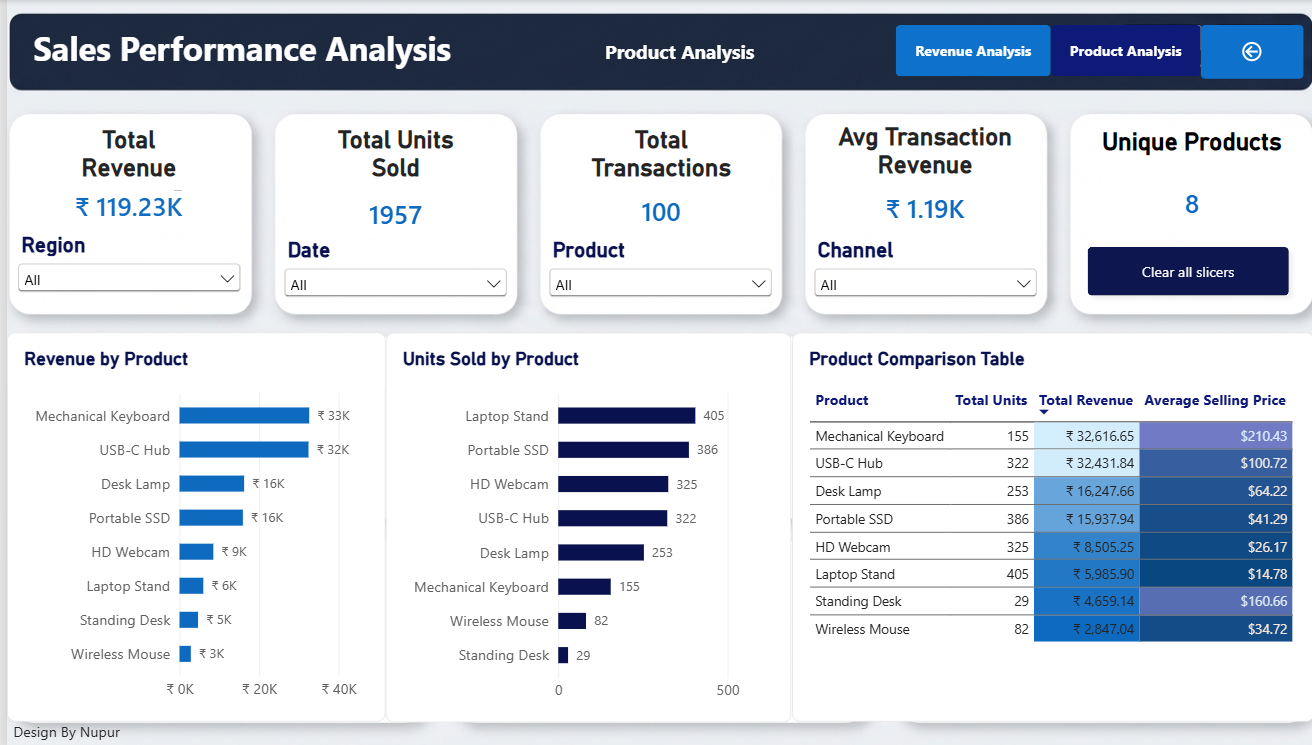

The page's visual inventory and layout, read from the dashboard file:
{"tool":"powerbi","page":{"name":"Sales_performance_dashboard","canvas":[1280,730],"ordinal":1},"visuals":[{"type":"cardVisual","title":"Total Revenue","fields":{"Data":["Sum(sales-transactions.revenue)"]},"box":[44,122.3,150.5,94.2],"z":0},{"type":"cardVisual","title":"Total Units Sold","fields":{"Data":["Sum(sales-transactions.units)"]},"box":[297.2,122.3,166.4,107.6],"z":1000},{"type":"cardVisual","title":"Total Transactions","fields":{"Data":["CountNonNull(sales-transactions.units)"]},"box":[545.5,122.3,189.6,107.6],"z":2000},{"type":"cardVisual","title":"Avg Transaction Revenue","fields":{"Data":["Avg(sales-transactions.revenue)"]},"box":[785.3,119.9,226.3,107.6],"z":3000},{"type":"cardVisual","title":"Unique Products","fields":{"Data":["Count(sales-transactions.product)"]},"box":[1071.5,124.8,176.1,102.7],"z":4000},{"type":"slicer","title":"Region","fields":{"Values":["sales-transactions.region"]},"box":[6.1,227.5,227.5,73.4],"z":6000},{"type":"slicer","title":"Region","fields":{"Values":["sales-transactions.date.Variation.Date Hierarchy.Year"]},"box":[266.7,232.4,227.5,73.4],"z":7000},{"type":"slicer","title":"Region","fields":{"Values":["sales-transactions.product"]},"box":[526,232.4,227.5,73.4],"z":8000},{"type":"slicer","title":"Region","fields":{"Values":["sales-transactions.channel"]},"box":[785.3,232.4,227.5,73.4],"z":9000},{"type":"actionButton","box":[1048.3,232.4,215.3,66.1],"z":12000},{"type":"clusteredBarChart","title":"Units Sold by Product","fields":{"Category":["sales-transactions.product"],"Y":["Sum(sales-transactions.units)"]},"box":[370.9,325.9,396.8,381.8],"z":13000},{"type":"tableEx","title":"Product Comparison Table","fields":{"Values":["sales-transactions.product","Sum(sales-transactions.units)","Sum(sales-transactions.revenue)","sales-transactions.Average Selling Price"]},"box":[767.6,325.9,511.3,380.4],"z":14000},{"type":"clusteredBarChart","title":"Revenue by Product","fields":{"Category":["sales-transactions.product"],"Y":["Sum(sales-transactions.revenue)"]},"box":[0,325.4,370.6,380.4],"z":15000},{"type":"textbox","box":[25.6,25.6,438,51.2],"z":16000},{"type":"actionButton","box":[869.7,24.5,151.7,50.2],"z":17000},{"type":"actionButton","box":[1021.4,24.5,146.8,50.2],"z":18000},{"type":"textbox","box":[582.7,37.3,152,37.3],"z":19001},{"type":"textbox","box":[6.7,705.3,144,25.3],"z":19002},{"type":"actionButton","box":[1168,24.7,100.7,52.7],"z":19003}]}

Visuals, with their boxes in screenshot pixels (x1, y1, x2, y2), scaled from the page's 1280x730 canvas onto the 1312x745 screenshot:
"Total Revenue" cardVisual: <bbox>45, 125, 199, 221</bbox>
"Total Units Sold" cardVisual: <bbox>305, 125, 475, 235</bbox>
"Total Transactions" cardVisual: <bbox>559, 125, 753, 235</bbox>
"Avg Transaction Revenue" cardVisual: <bbox>805, 122, 1037, 232</bbox>
"Unique Products" cardVisual: <bbox>1098, 127, 1279, 232</bbox>
"Region" slicer: <bbox>6, 232, 239, 307</bbox>
"Region" slicer: <bbox>273, 237, 507, 312</bbox>
"Region" slicer: <bbox>539, 237, 772, 312</bbox>
"Region" slicer: <bbox>805, 237, 1038, 312</bbox>
actionButton: <bbox>1075, 237, 1295, 305</bbox>
"Units Sold by Product" clusteredBarChart: <bbox>380, 333, 787, 722</bbox>
"Product Comparison Table" tableEx: <bbox>787, 333, 1311, 721</bbox>
"Revenue by Product" clusteredBarChart: <bbox>0, 332, 380, 720</bbox>
textbox: <bbox>26, 26, 475, 78</bbox>
actionButton: <bbox>891, 25, 1047, 76</bbox>
actionButton: <bbox>1047, 25, 1197, 76</bbox>
textbox: <bbox>597, 38, 753, 76</bbox>
textbox: <bbox>7, 720, 154, 744</bbox>
actionButton: <bbox>1197, 25, 1300, 79</bbox>
